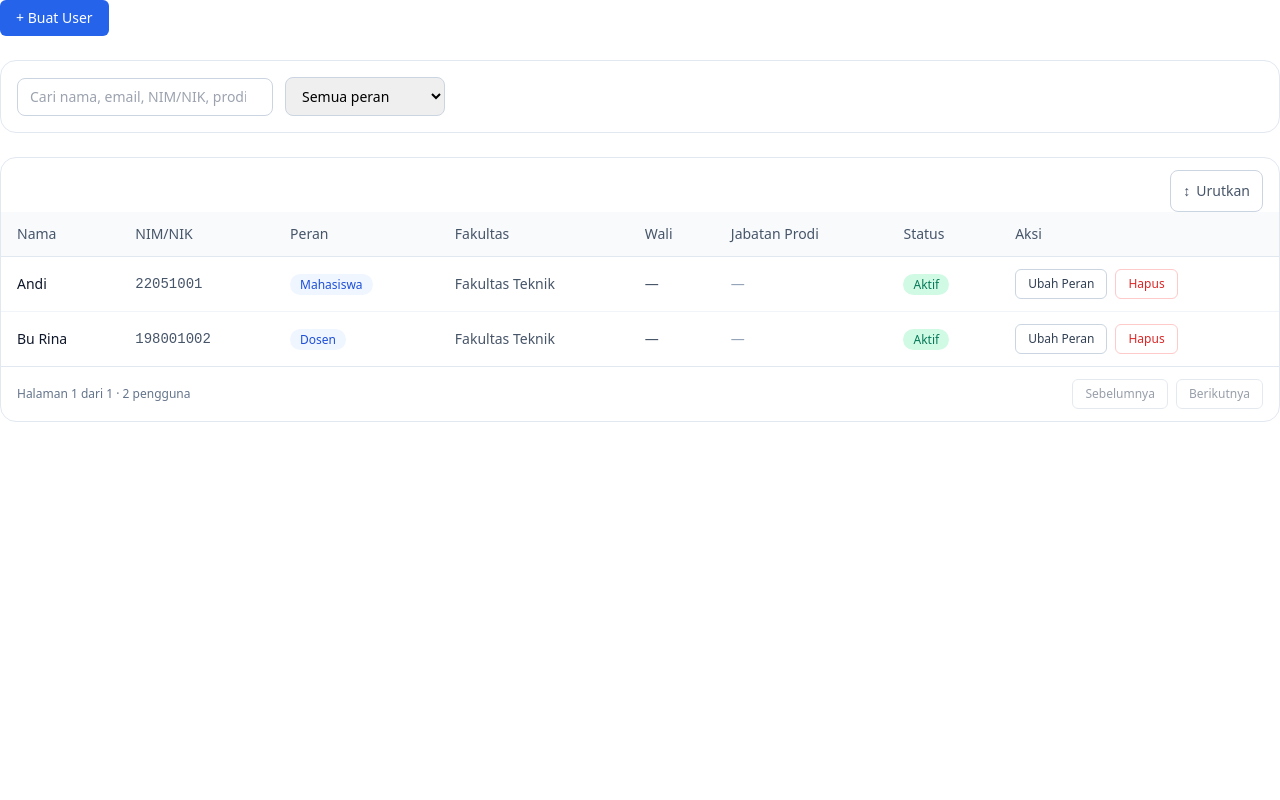
Test: UsersPage (T1.11c) › buat user mahasiswa: cukup NIM → lookup → preview readonly → POST {roleCode, nim}
expect the text "Andi" is shown: met, box [1, 256, 119, 312]
Click the button "+ Buat User": point(54, 18) [0, 0, 109, 36]
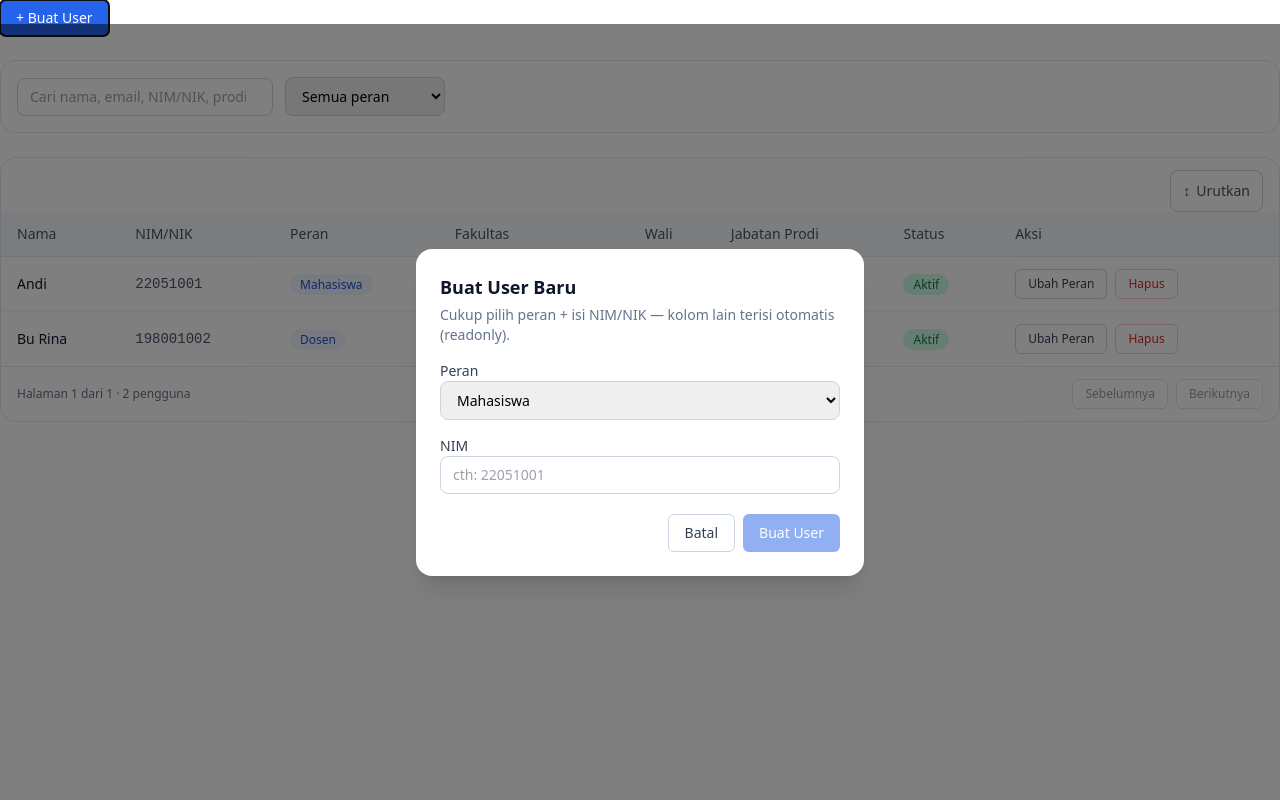
In the field labelled "NIM": point(640, 474) [440, 456, 840, 494], type "22051001"
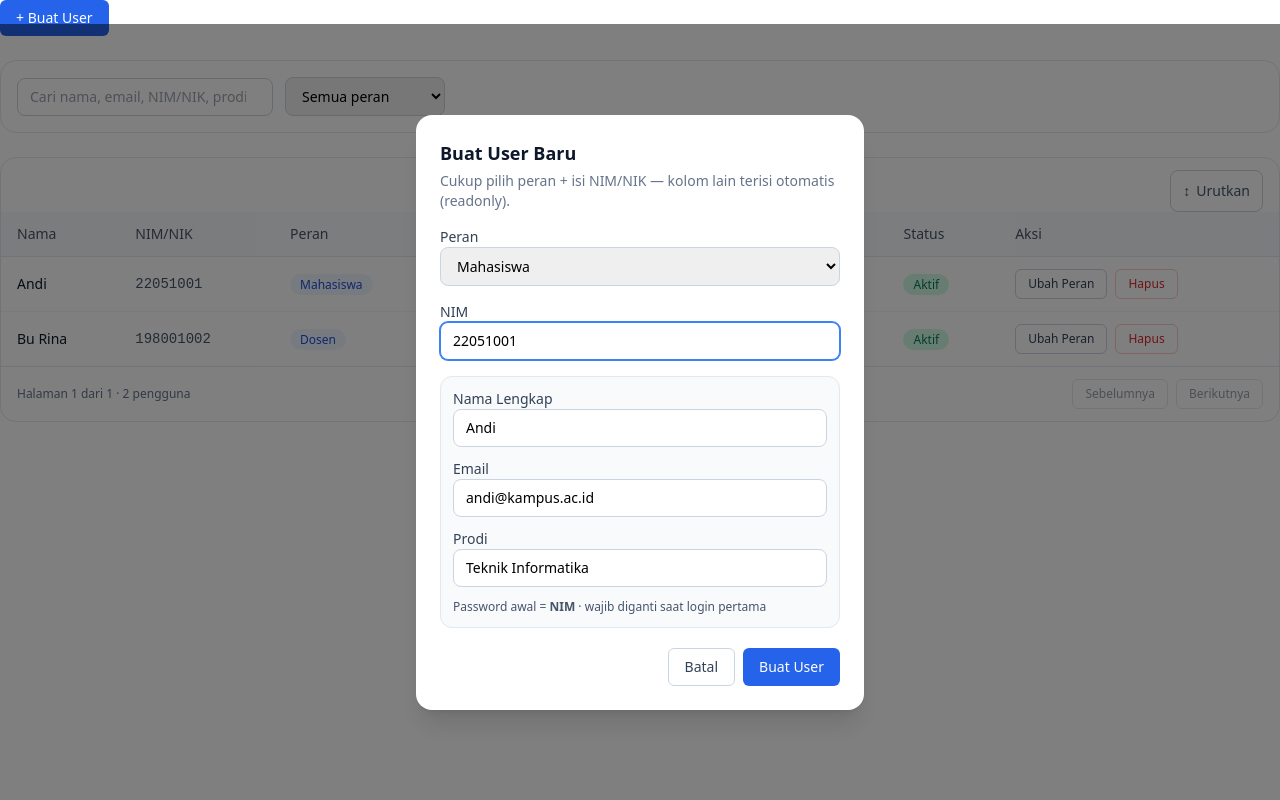
expect the field showing "Andi" is shown: met, box [453, 408, 827, 446]
expect the field showing "andi@kampus.ac.id" is shown: met, box [453, 478, 827, 516]
expect the field showing "Teknik Informatika" is shown: met, box [453, 548, 827, 586]
Click the button "Buat User": point(792, 666) [743, 648, 840, 686]
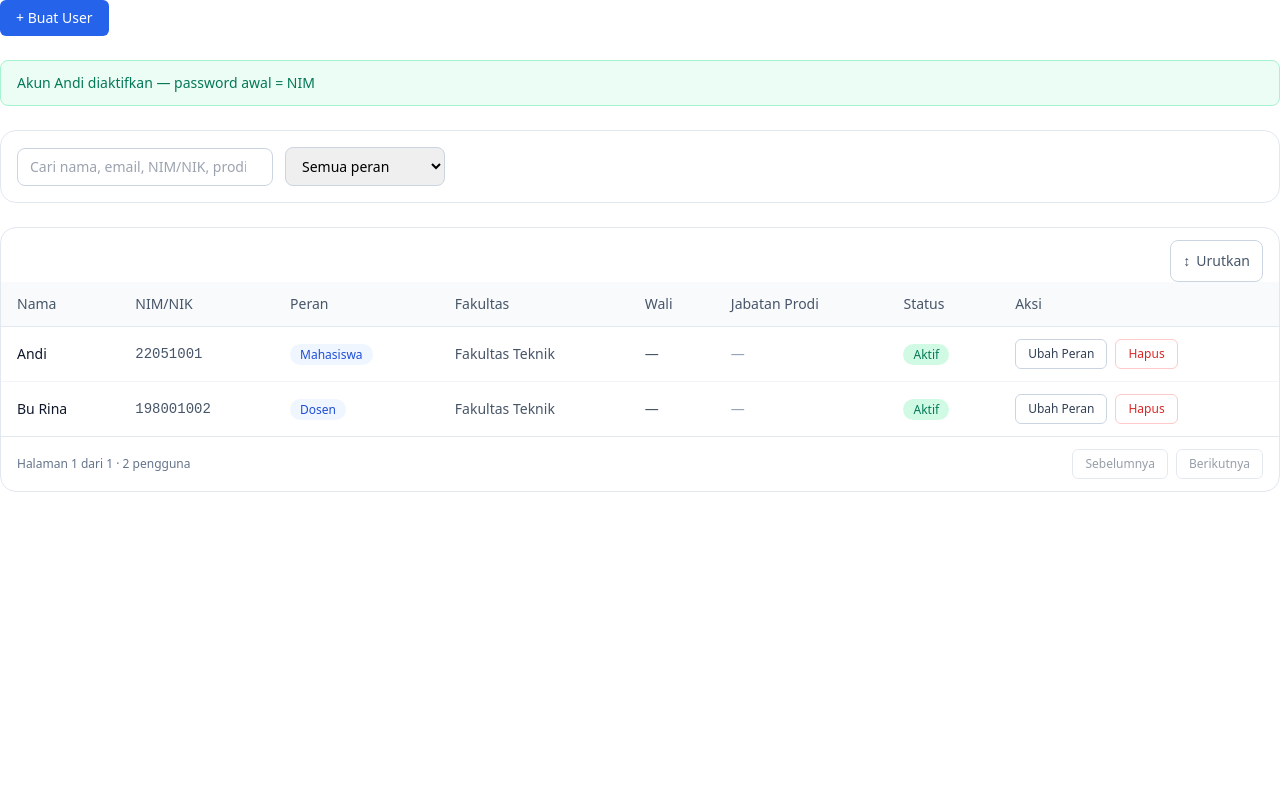
expect the text "Akun Andi diaktifkan — password awal = NIM" is shown: met, box [0, 60, 1279, 106]
